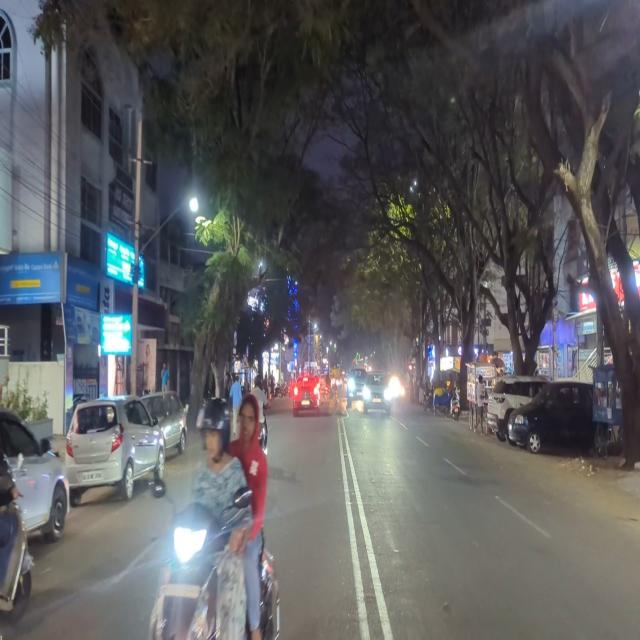bien_cam: (242, 352, 250, 368)
